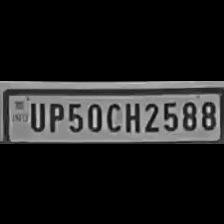0: (84, 99, 102, 131)
2: (141, 98, 159, 132)
5: (64, 98, 84, 132), (160, 97, 178, 131)
8: (178, 97, 198, 130), (198, 96, 216, 130)
C: (103, 100, 121, 132)
H: (122, 98, 140, 132)
P: (45, 100, 63, 132)
U: (25, 98, 45, 132)
